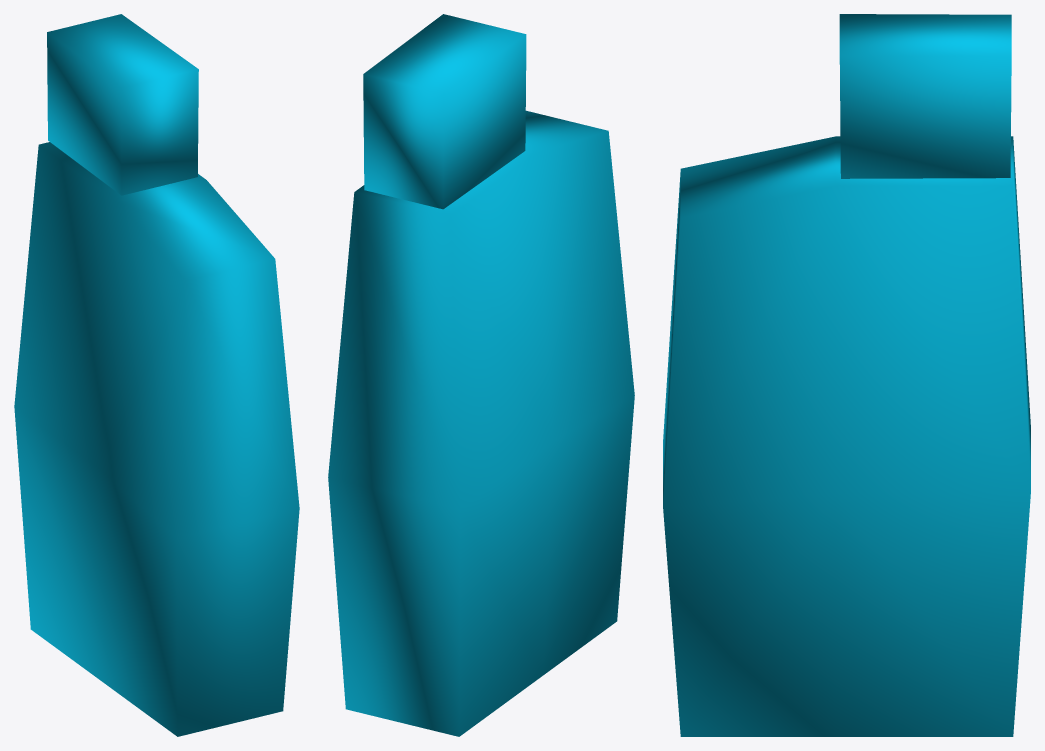
Rendered from Household_01_Lod1.fbx.
3 views of the same model, side by side, from view 1: azimuth 30°, elevation 25°; view 2: azimuth 150°, elevation 25°; view 3: azimuth 270°, elevation 25° (orthographic). The views are drawn at different scales.
Visible parts, largest first — view 1: Household_01_Lod1; view 2: Household_01_Lod1; view 3: Household_01_Lod1.
Boxes of the visible parts, box(x1,y1,x2,y2) form: Household_01_Lod1: box(14, 14, 299, 736); Household_01_Lod1: box(328, 14, 634, 736); Household_01_Lod1: box(663, 14, 1030, 736).
Size of the model in its own units: 6.18 by 28.54 by 14.14.
